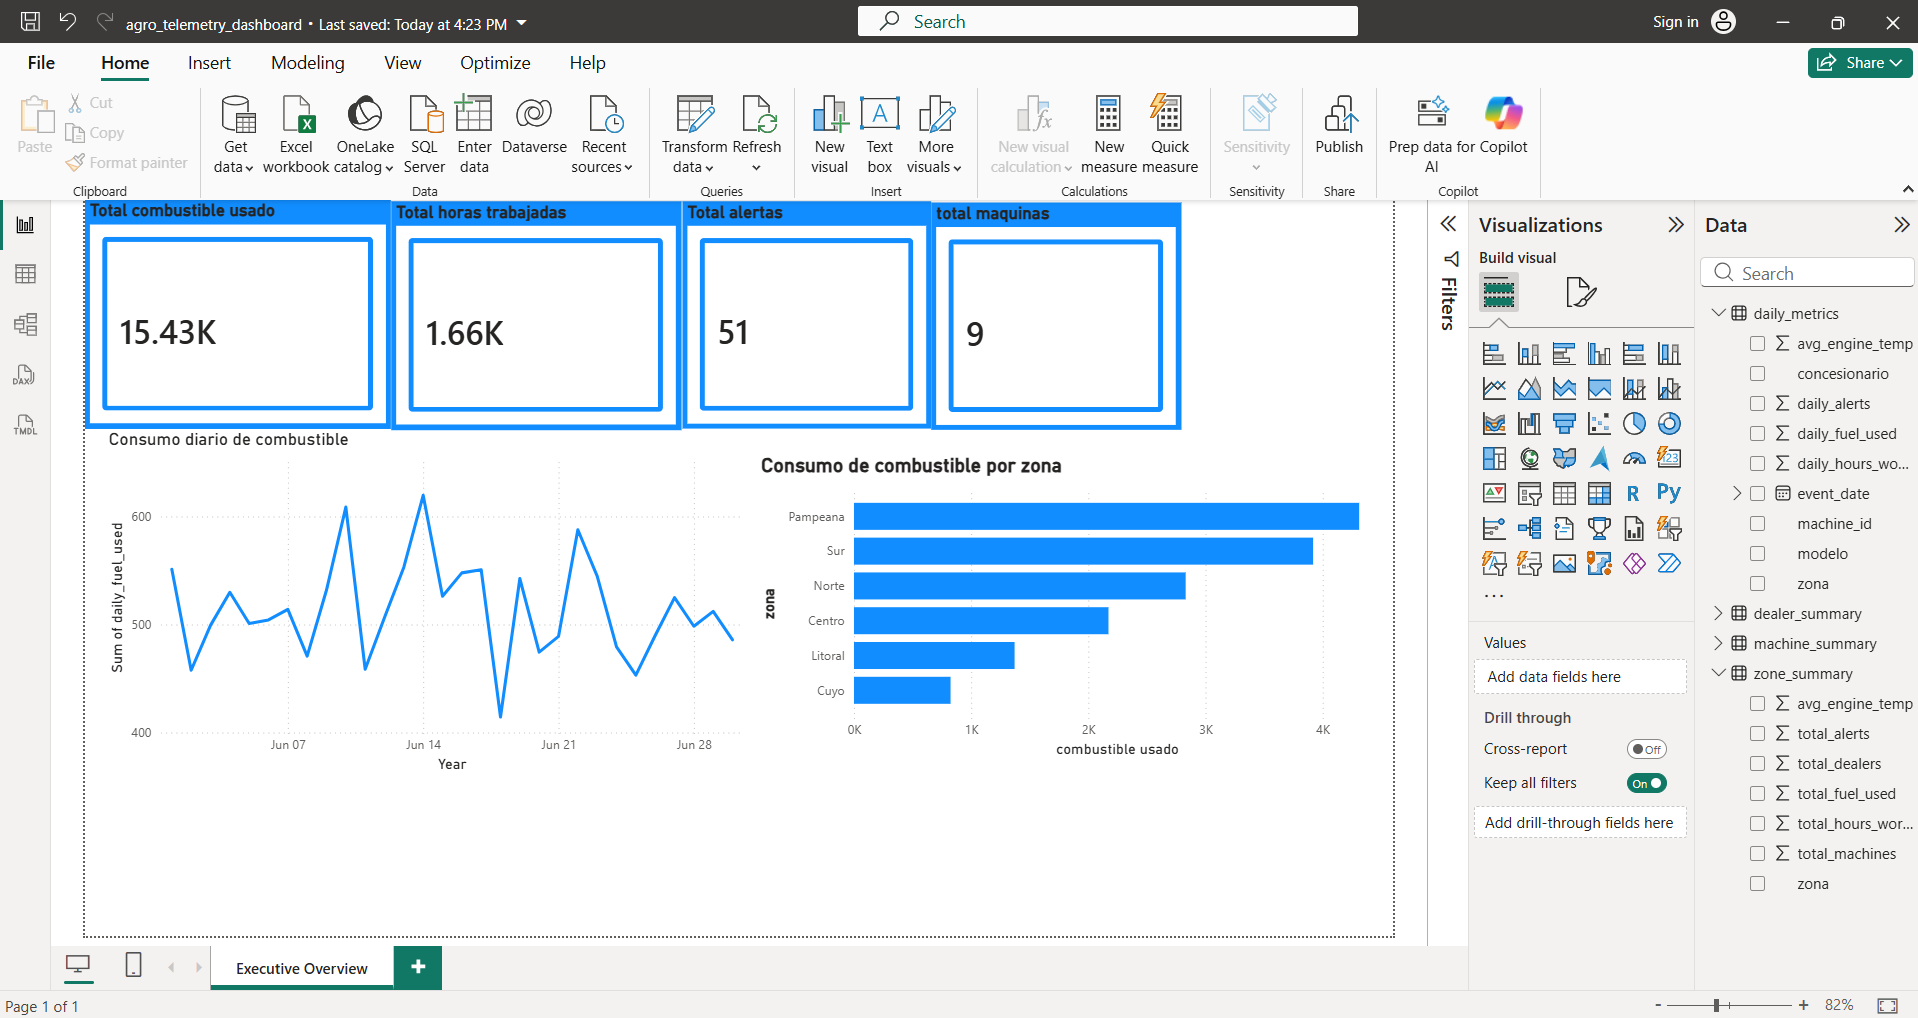

What the dashboard file says about the page in this screenshot:
{"tool":"powerbi","page":{"name":"Executive Overview","canvas":[1280,720],"ordinal":0},"visuals":[{"type":"lineChart","title":"Consumo diario de combustible","fields":{"Y":["Sum(daily_metrics.daily_fuel_used)"],"Category":["daily_metrics.event_date.Variation.Date Hierarchy.Year","daily_metrics.event_date.Variation.Date Hierarchy.Quarter","daily_metrics.event_date.Variation.Date Hierarchy.Month","daily_metrics.event_date.Variation.Date Hierarchy.Day"]},"box":[18.3,223.8,638.3,341.2],"z":0},{"type":"cardVisual","title":"Total combustible usado","fields":{"Data":["Sum(daily_metrics.daily_fuel_used)"]},"box":[0,0,299.6,223.8],"z":1},{"type":"cardVisual","title":"Total horas trabajadas","fields":{"Data":["Sum(daily_metrics.daily_hours_worked)"]},"box":[299.6,1.2,283.7,223.8],"z":2},{"type":"cardVisual","title":"Total alertas","fields":{"Data":["Sum(daily_metrics.daily_alerts)"]},"box":[584.5,1.2,243.3,222.6],"z":3},{"type":"cardVisual","title":"total maquinas","fields":{"Data":["Count(daily_metrics.machine_id)"]},"box":[827.9,2.4,244.6,222.6],"z":4},{"type":"clusteredBarChart","title":"Consumo de combustible por zona","fields":{"Y":["Sum(zone_summary.total_fuel_used)"],"Category":["zone_summary.zona"]},"box":[656.7,248.2,623.6,302],"z":5}]}

Visuals, with their boxes on the page's 1280x720 design canvas (x1, y1, x2, y2). These are canvas units, not pixel positions in the 1918x1018 screenshot, which may show the page scaled, cropped or inside an application window:
"Consumo diario de combustible" lineChart: Rect(18, 224, 657, 565)
"Total combustible usado" cardVisual: Rect(0, 0, 300, 224)
"Total horas trabajadas" cardVisual: Rect(300, 1, 583, 225)
"Total alertas" cardVisual: Rect(584, 1, 828, 224)
"total maquinas" cardVisual: Rect(828, 2, 1072, 225)
"Consumo de combustible por zona" clusteredBarChart: Rect(657, 248, 1280, 550)
